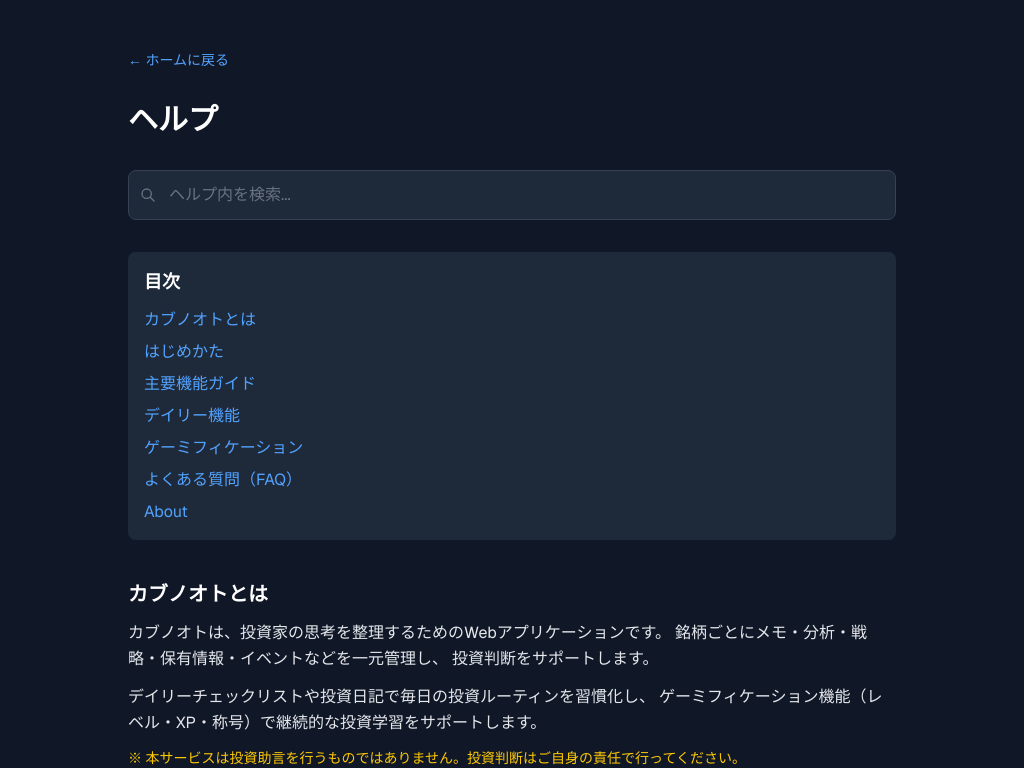
Test case: HelpPage › 検索結果が0件のときメッセージが表示される
Type "ありえないキーワード" into the field with placeholder "ヘルプ内を検索...".
click(512, 195); type("ありえないキーワード")  # box x1=128 y1=170 x2=896 y2=220
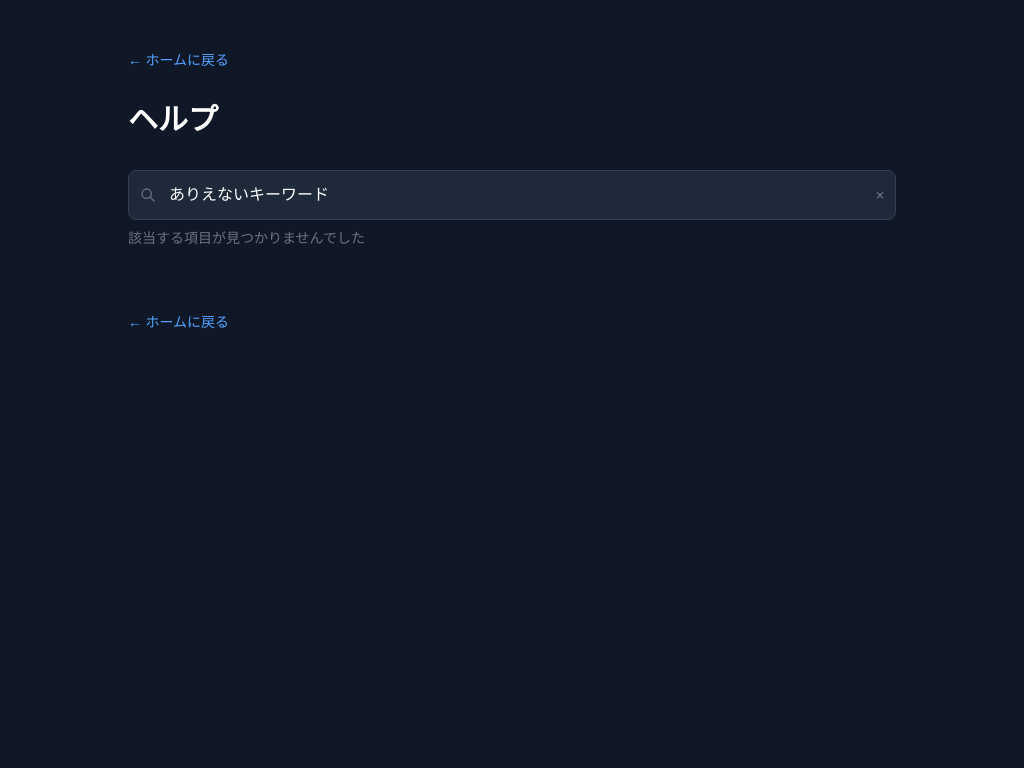
expect the text "該当する項目が見つかりませんでした" is shown: met, box x1=128 y1=229 x2=365 y2=247
